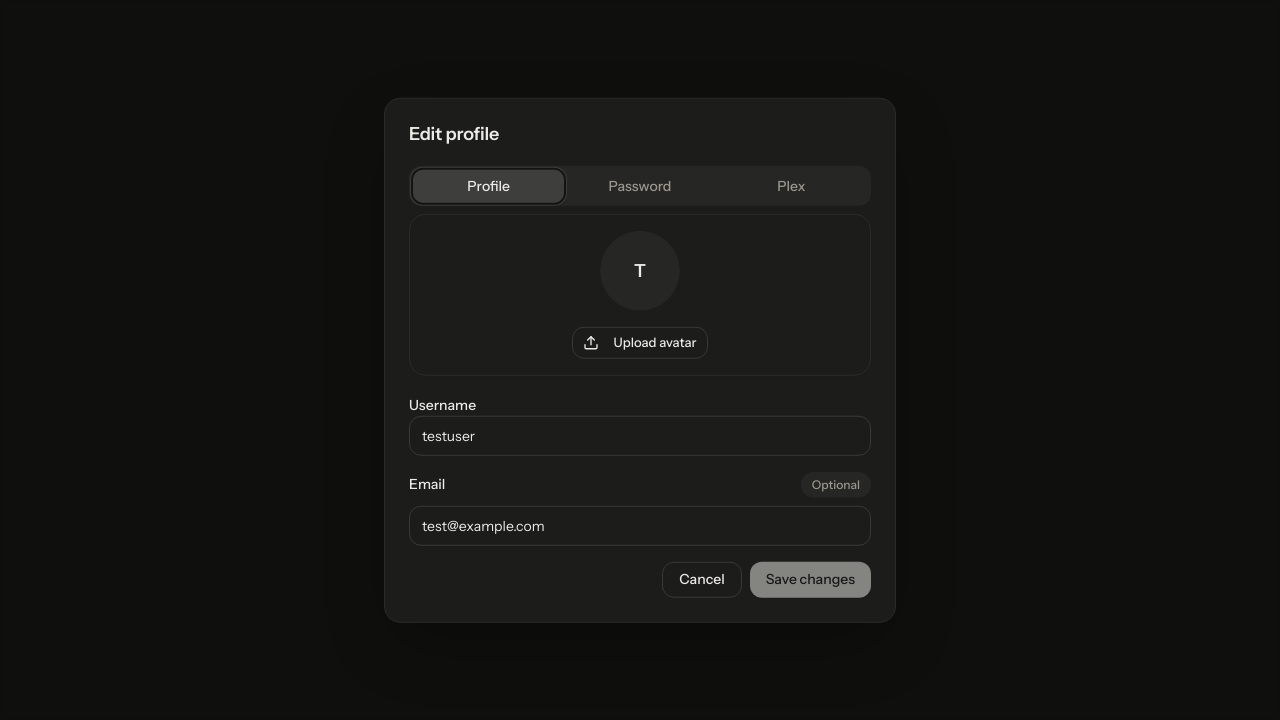
it: EditProfileModal › changing the password › requires the current password
Expected: the heading "Edit profile" is shown, [409,123,499,145]
Click the tab "Password". click: (640, 186)
box: [564,169,716,203]
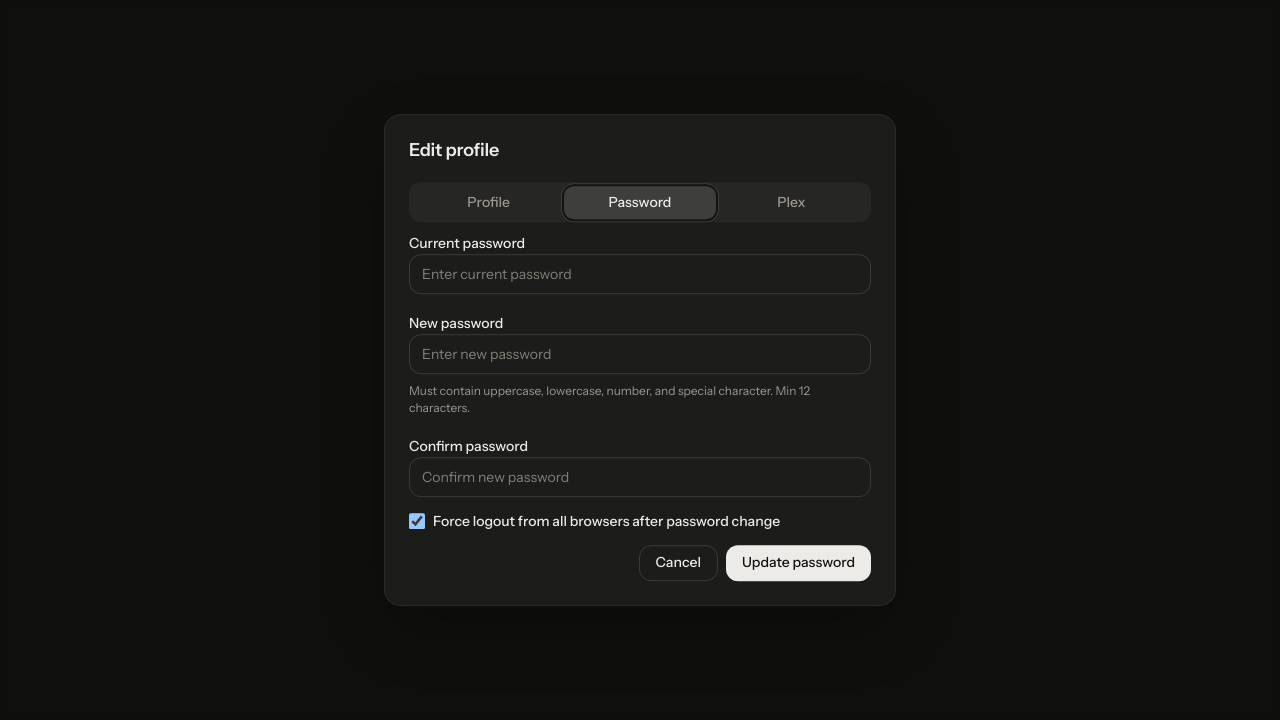
Type "Str0ng!Passw0rd" into the password field labelled "New password". click: (640, 354)
box: [409,334,871,374]
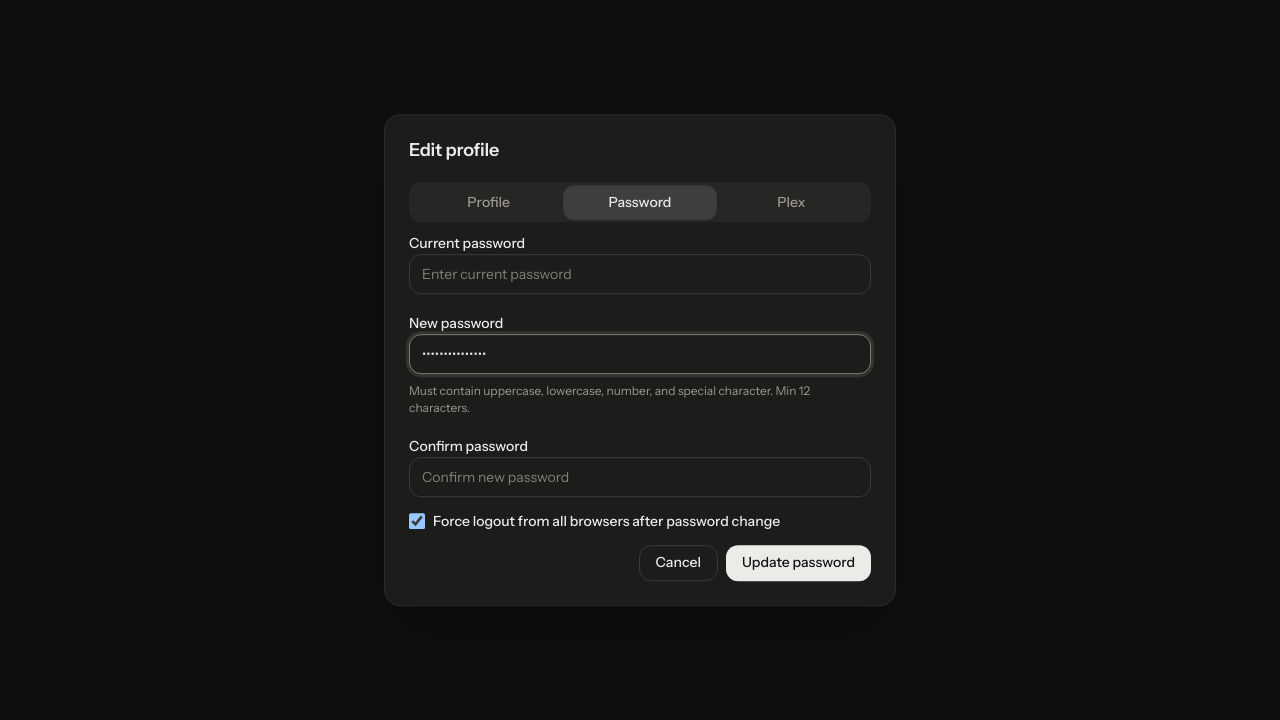
Type "Str0ng!Passw0rd" into the password field labelled "Confirm password". click: (640, 477)
box: [409,457,871,497]
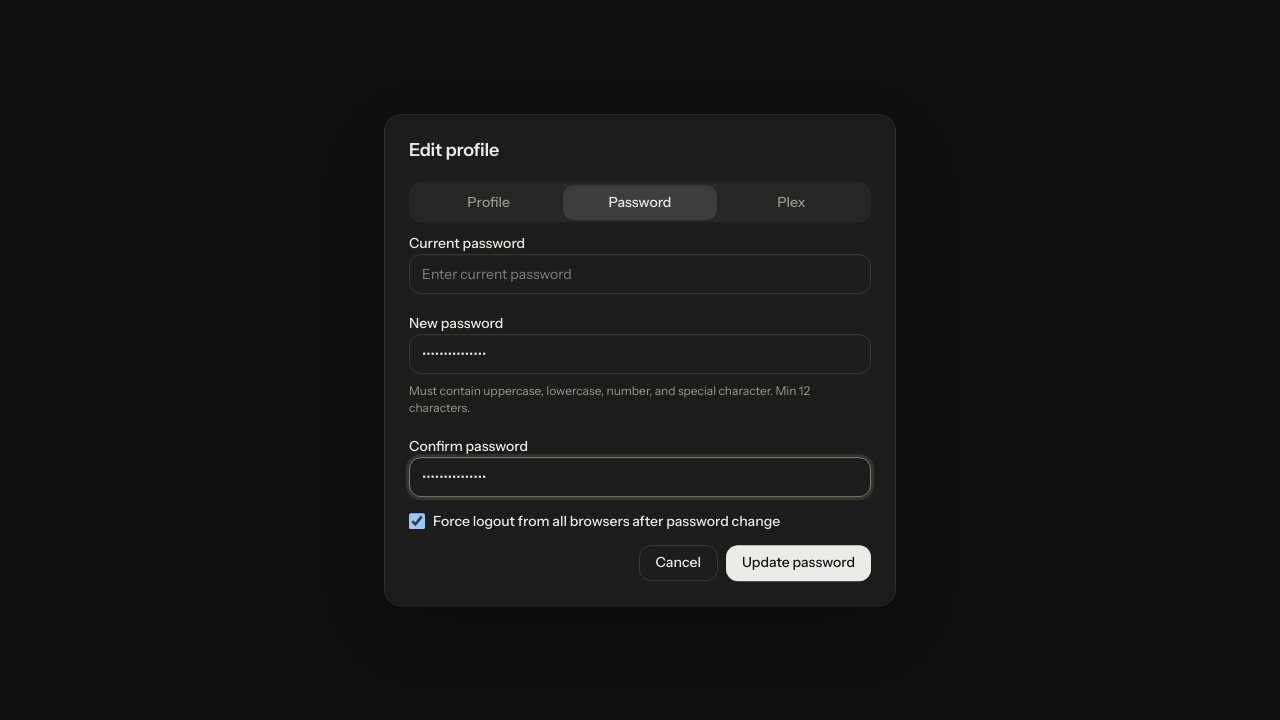
Click the button "Update password". click: (798, 563)
box: [726,545,871,581]
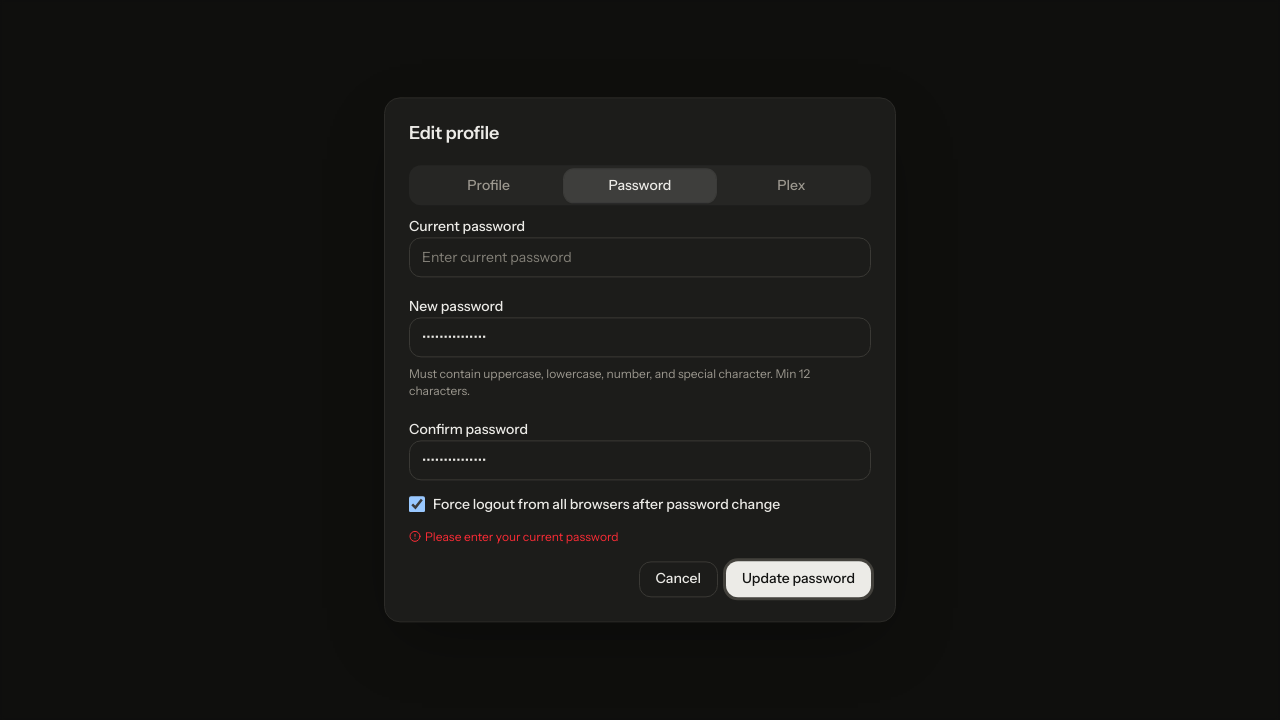
Expected: the text "Please enter your current password" is shown, [409,529,618,544]
